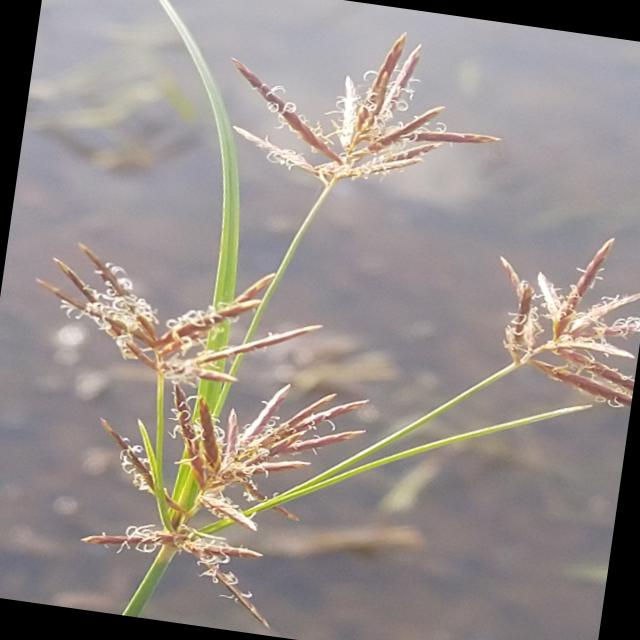cyperus: (0, 0, 640, 640), (68, 358, 360, 602), (194, 8, 495, 230), (31, 229, 326, 407), (451, 211, 640, 419)
